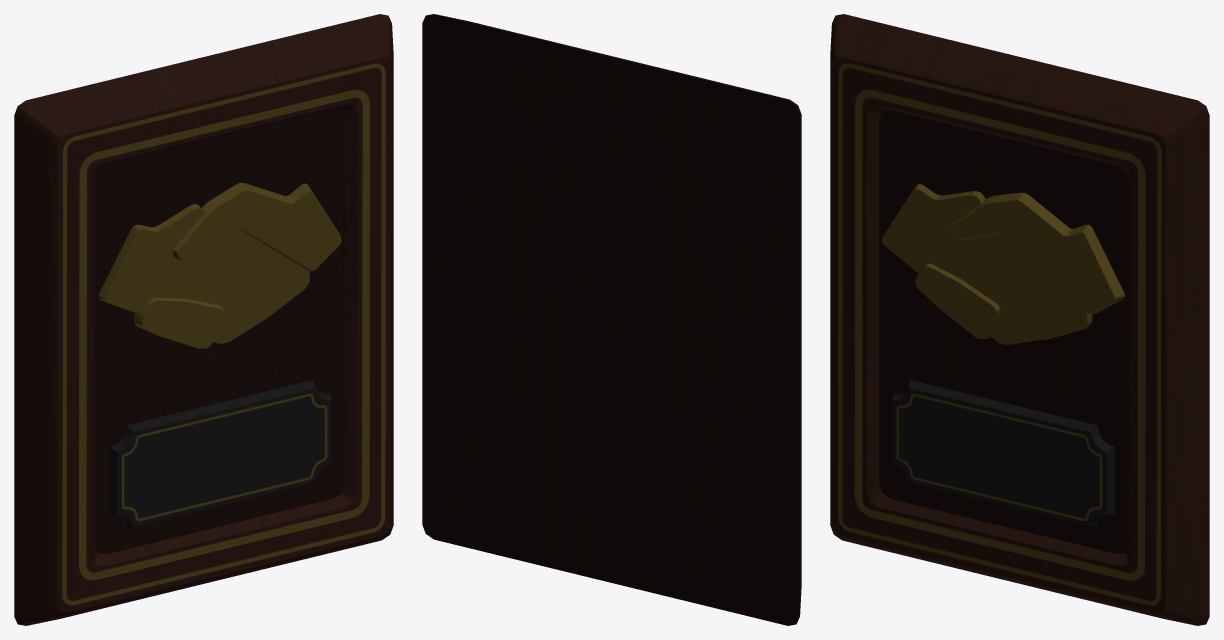
Rendered from contest trophy modaration.glb.
3 renders of one model, left to right at view 1: azimuth 30°, elevation 25°; view 2: azimuth 150°, elevation 25°; view 3: azimuth 330°, elevation 25°, orthographic.
Parts seen in each view (by area): view 1: Trophy_Moderator; view 2: Trophy_Moderator; view 3: Trophy_Moderator.
Boxes of the visible parts, box(x1,y1,x2,y2) form: Trophy_Moderator: box(14, 14, 393, 625); Trophy_Moderator: box(422, 14, 801, 625); Trophy_Moderator: box(830, 14, 1209, 625).
Size of the model in its own units: 0.4343 by 0.5773 by 0.0447.
1 material, 1 textured.
